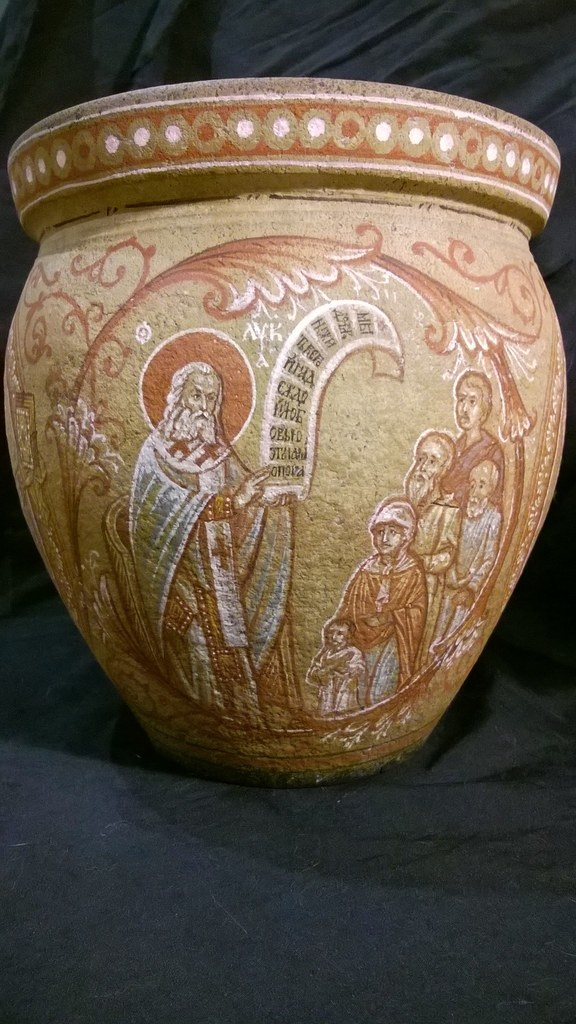person: (303, 491, 428, 716)
